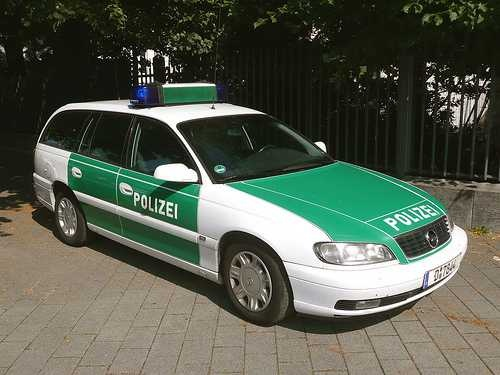Police Car: (36, 59, 464, 336)
